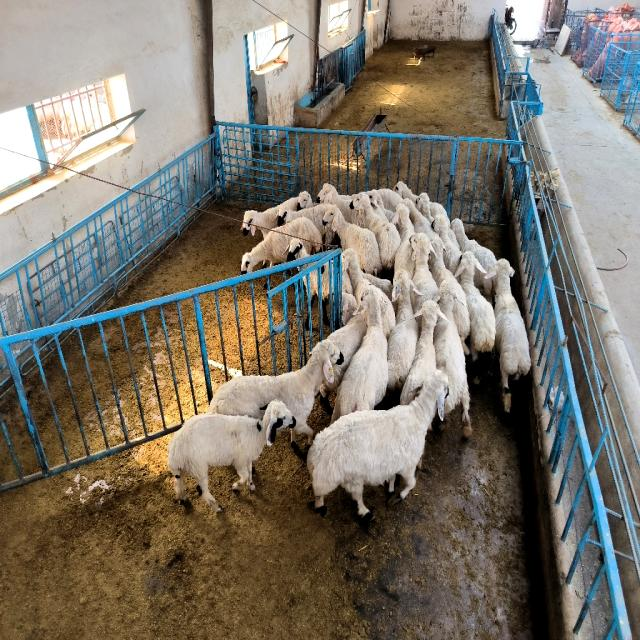sheep: (308, 370, 448, 516), (168, 400, 296, 512), (208, 340, 340, 444), (331, 290, 389, 422), (434, 282, 472, 438), (495, 258, 531, 412), (400, 300, 448, 405), (429, 237, 470, 353), (455, 252, 496, 362), (241, 217, 322, 272), (324, 205, 382, 276), (351, 195, 401, 272), (388, 270, 419, 392), (320, 313, 366, 394), (278, 203, 339, 247), (451, 220, 496, 272), (404, 198, 445, 255), (410, 233, 439, 312), (241, 198, 298, 238), (341, 248, 372, 306), (432, 213, 461, 274), (392, 203, 415, 278), (318, 183, 358, 222), (379, 290, 395, 338), (474, 273, 492, 302), (296, 190, 315, 209)
